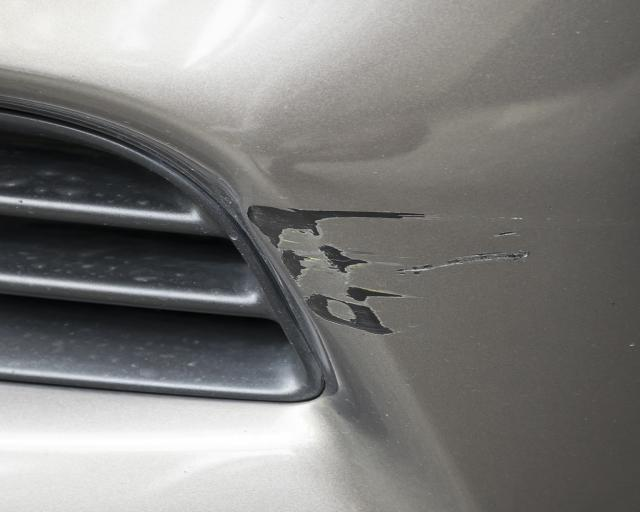scratch: (245, 201, 557, 338)
